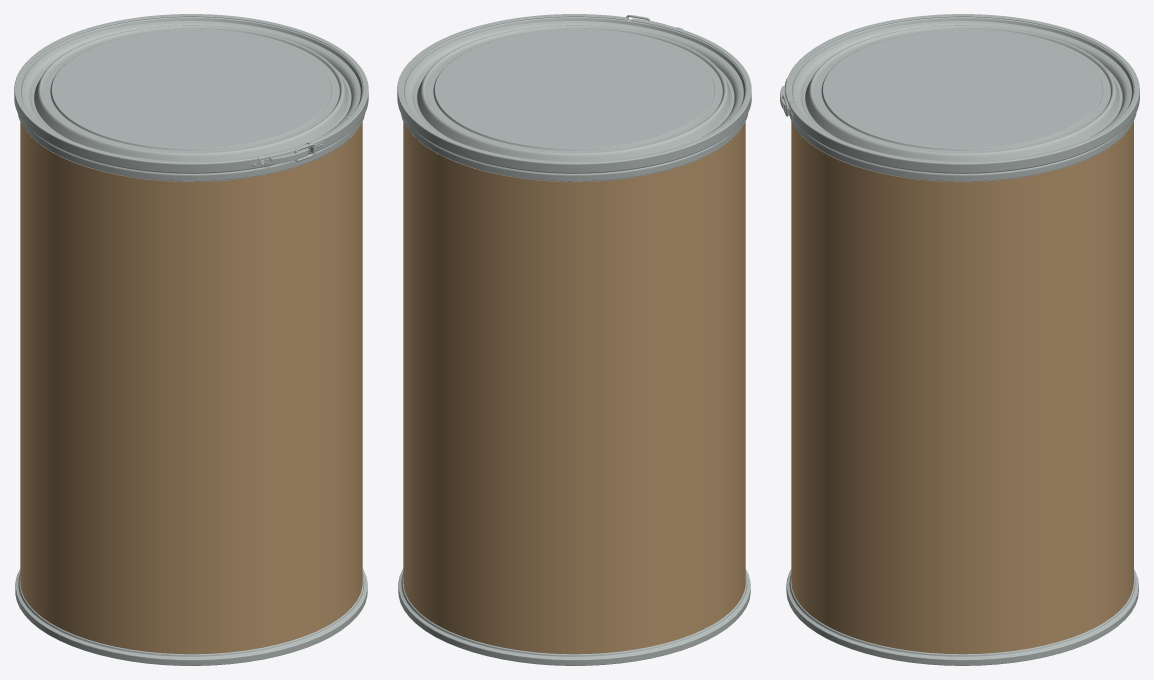
Rendered from drum_fiber_a02.glb.
3 views of the same model, side by side, from view 1: azimuth 30°, elevation 25°; view 2: azimuth 150°, elevation 25°; view 3: azimuth 270°, elevation 25° (orthographic).
Size of the model in its own units: 0.5775 by 0.9072 by 0.5861.
